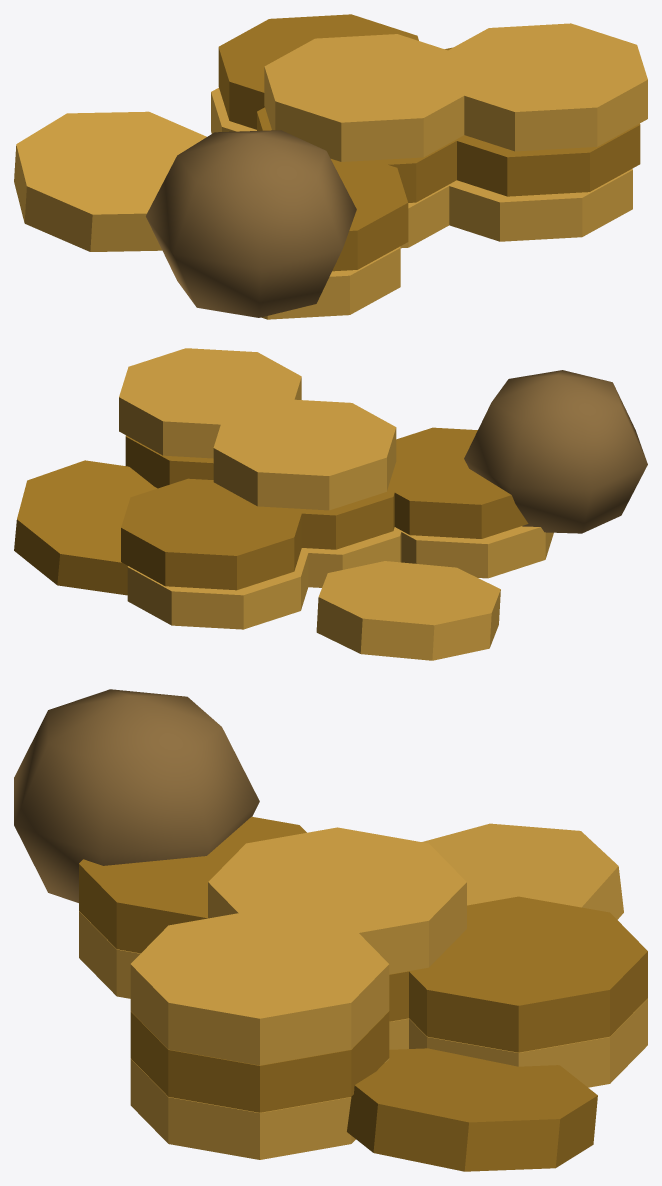
File: loot_gold.glb
3 views of the same model, one above another, from view 1: azimuth 30°, elevation 25°; view 2: azimuth 150°, elevation 25°; view 3: azimuth 270°, elevation 25° (orthographic). The views are drawn at different scales.
Visible parts, largest first — view 1: prop.loot_gold; view 2: prop.loot_gold; view 3: prop.loot_gold.
Boxes of the visible parts, left/top/right/bottom form: prop.loot_gold: left=14, top=14, right=647, bottom=319; prop.loot_gold: left=14, top=348, right=647, bottom=660; prop.loot_gold: left=14, top=689, right=647, bottom=1171.
Size of the model in its own units: 0.3863 by 0.13 by 0.3159.
